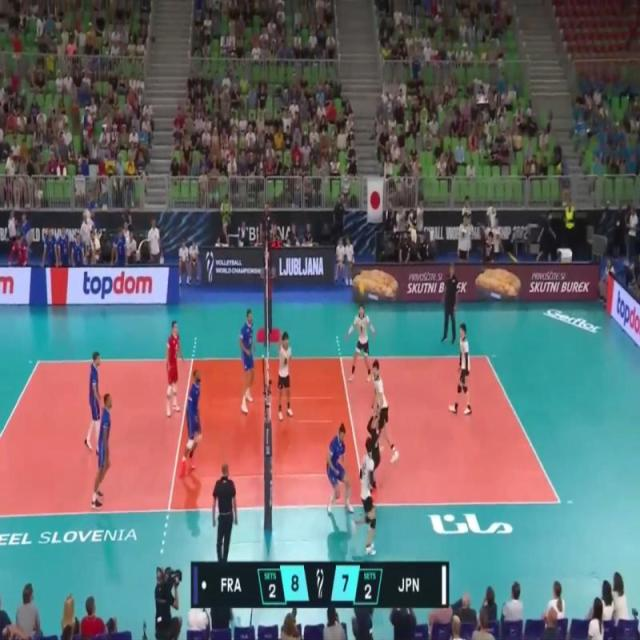volleyball: (358, 282, 365, 296)
